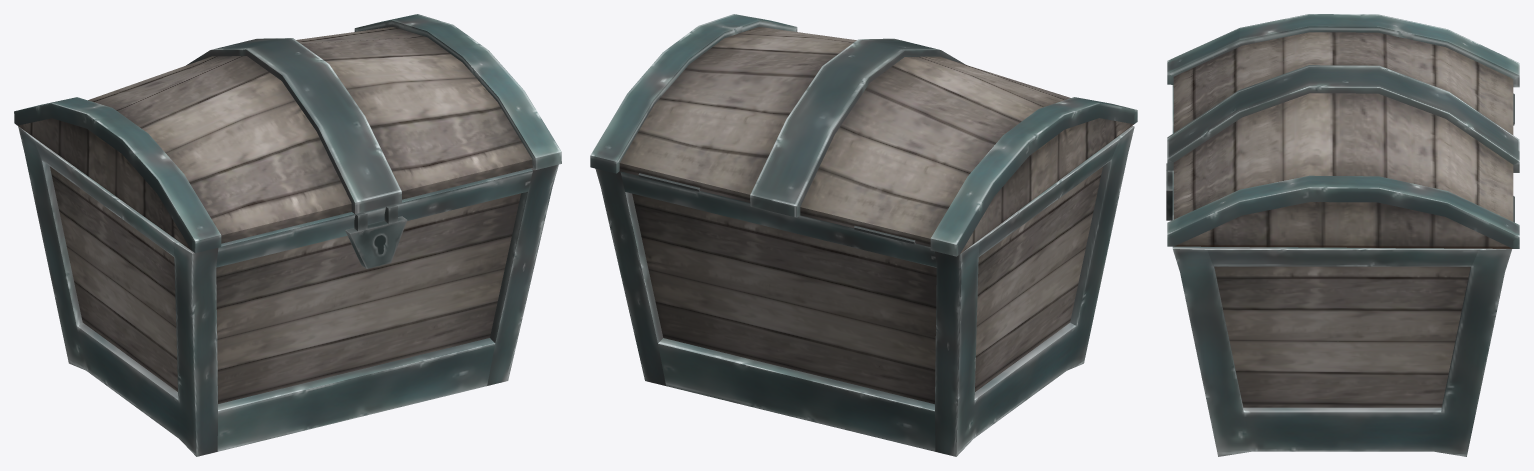
File: chest_009.FBX
The picture shows the model from 3 angles, left to right: view 1: azimuth 30°, elevation 25°; view 2: azimuth 150°, elevation 25°; view 3: azimuth 270°, elevation 25°; orthographic projection. The views are drawn at different scales.
Parts seen in each view (by area): view 1: chest_0093, chest; view 2: chest_0093, chest; view 3: chest, chest_0093.
Boxes of the visible parts, x1,y1,x2,y2 form: chest_0093: (18,126,558,456); chest: (14,14,561,253); chest_0093: (595,126,1134,456); chest: (590,14,1137,256); chest: (1167,14,1519,248); chest_0093: (1166,85,1514,456).
Bounding box in the file's own units: 15.34 × 12.47 × 13.03.
